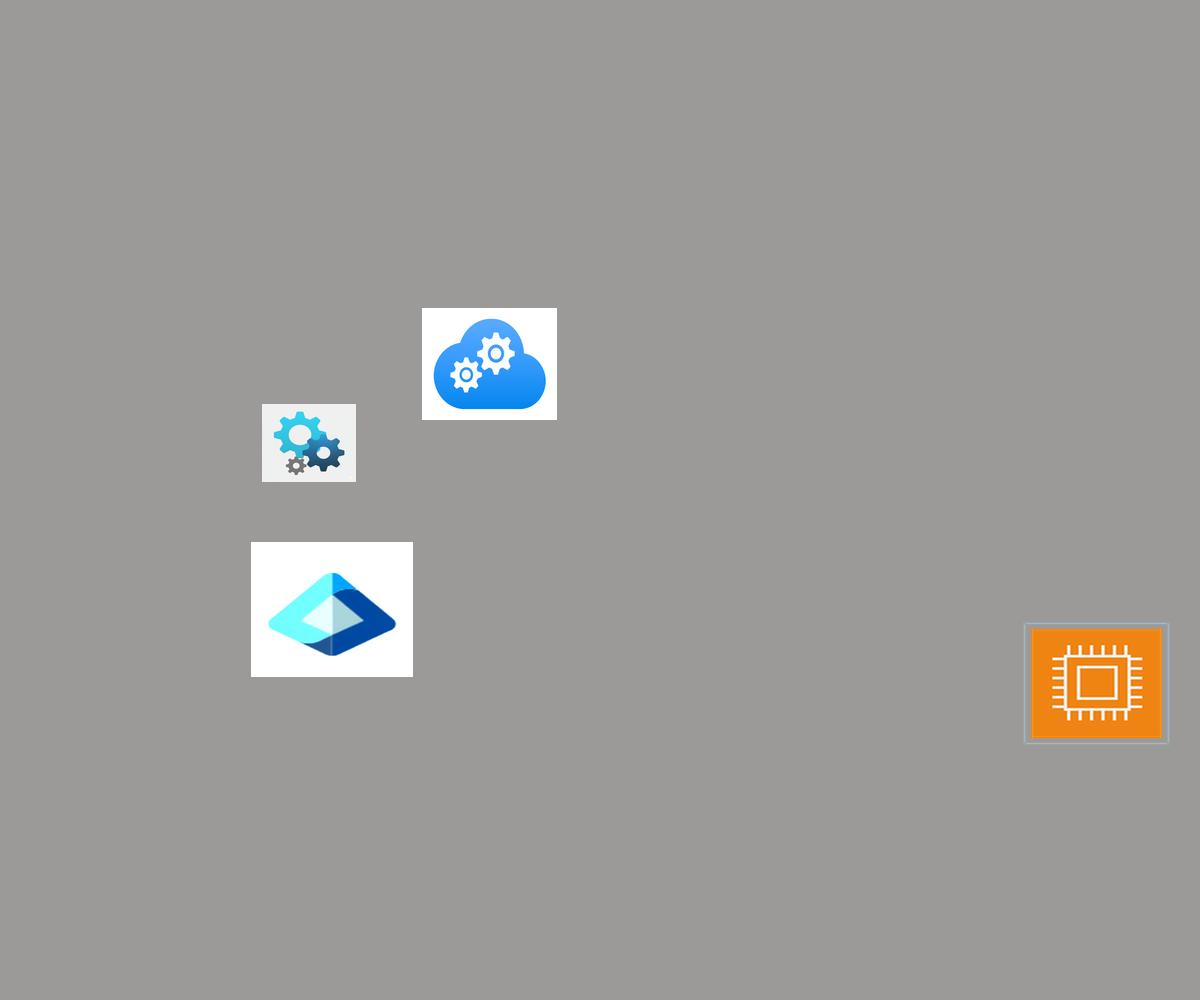AWS-Category_Compute: (1023, 622, 1170, 745)
Azure_api: (262, 404, 356, 482)
Azure_cloud_services: (422, 308, 557, 420)
Azure_microsoft_entra: (251, 542, 413, 677)
